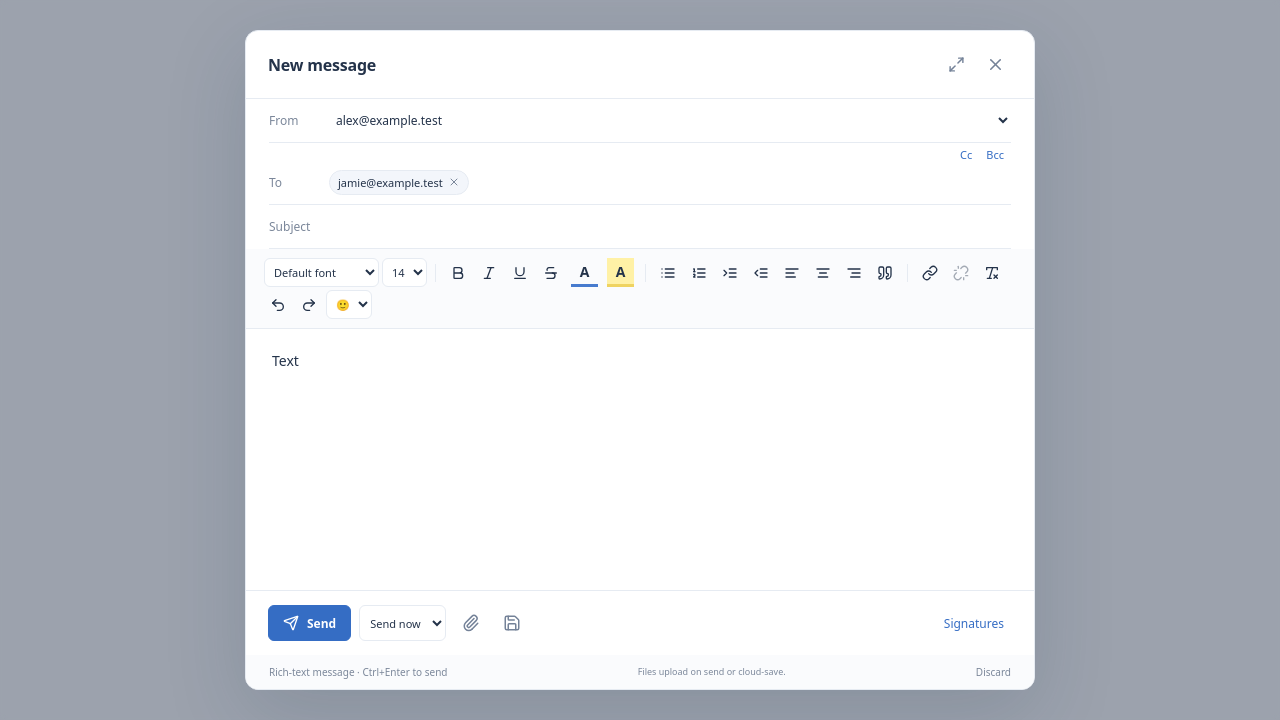
composer regression review › applies link text with Enter without implicitly submitting the email
Click the button named "Insert link (Ctrl+K)" at point(930, 272), box [916,258,944,287]
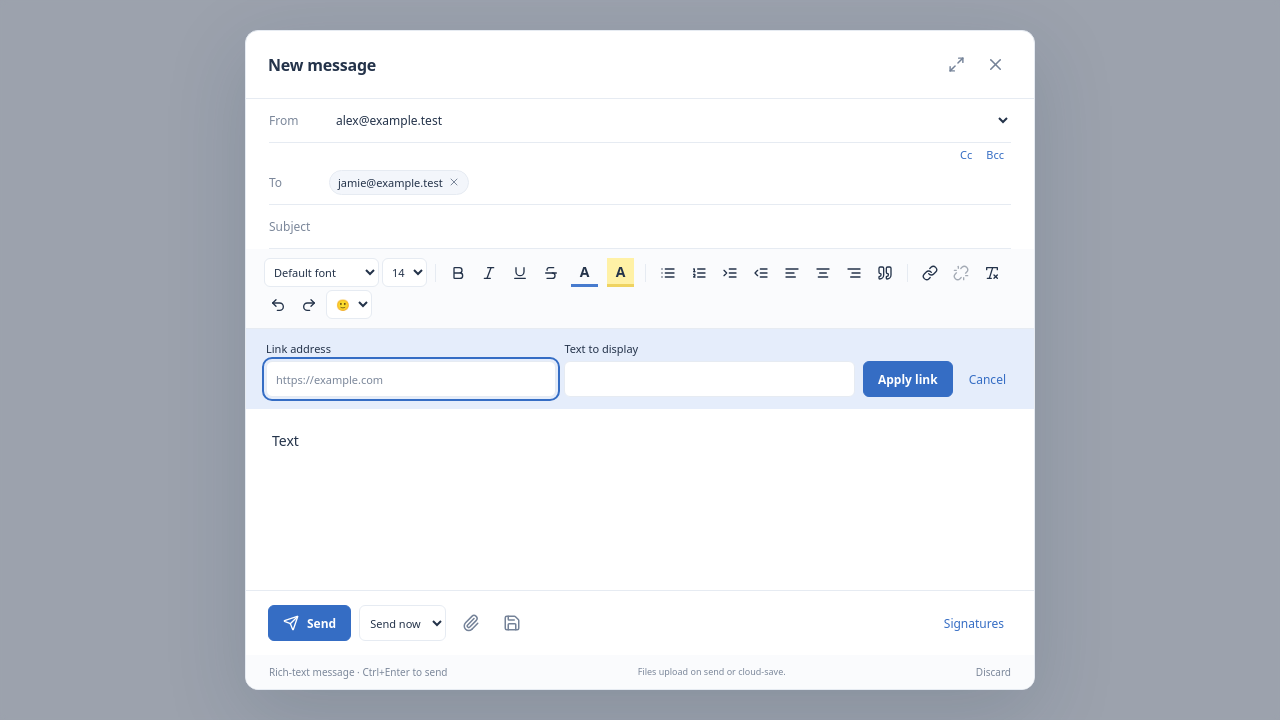
Type "https://example.test" into the field labelled "Link address" at point(411, 379), box [266,361,556,397]
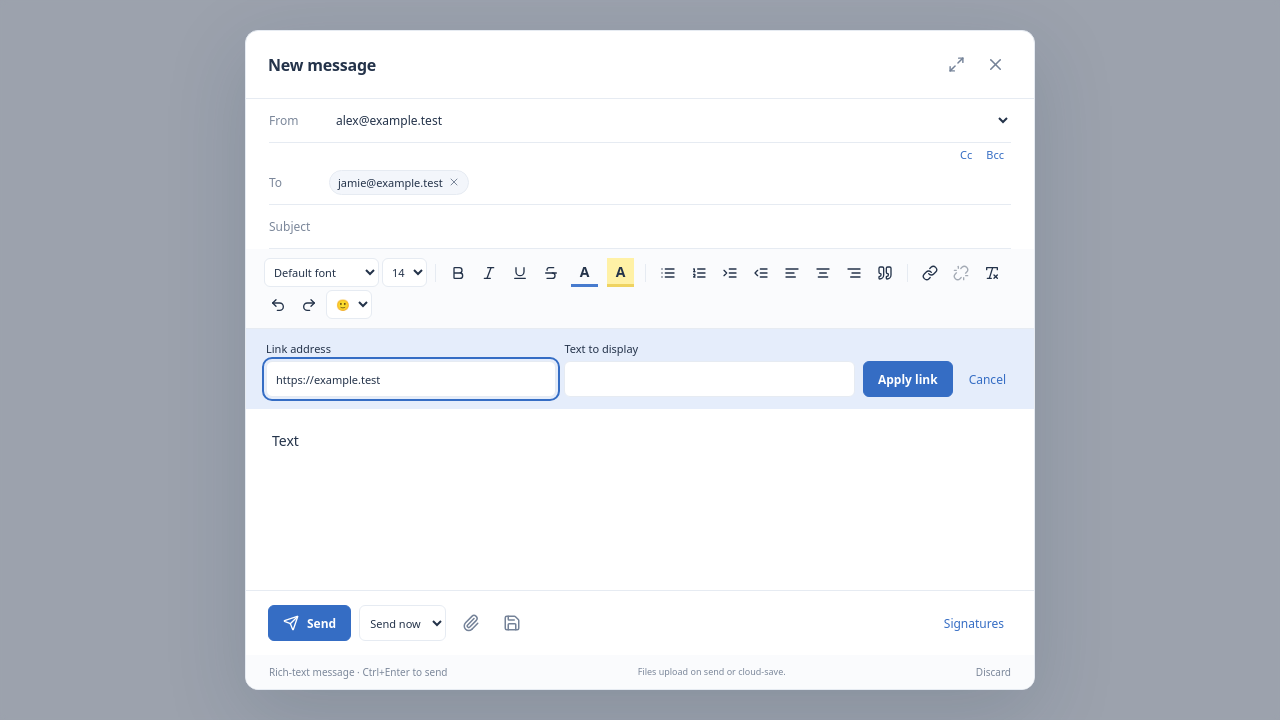
Type "Website" into the field labelled "Text to display" at point(710, 379), box [564,361,855,397]
Then press Enter
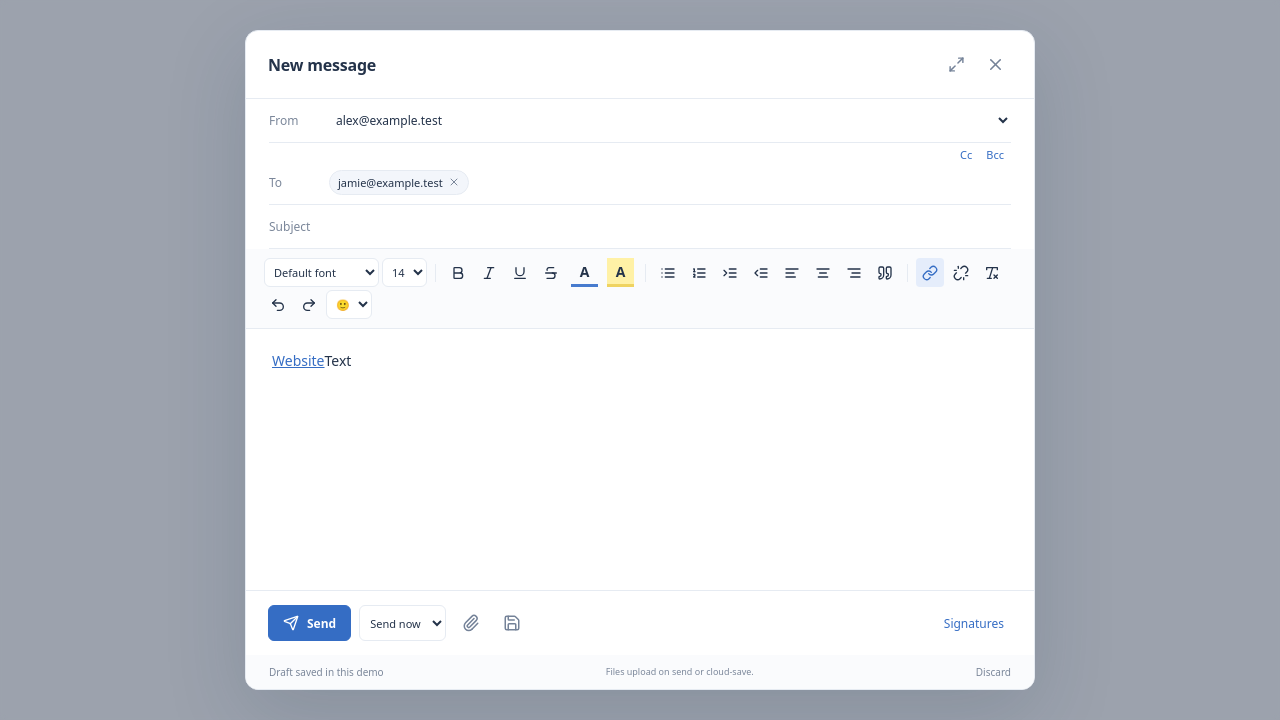
expect the label labelled "Link address" is gone: met
